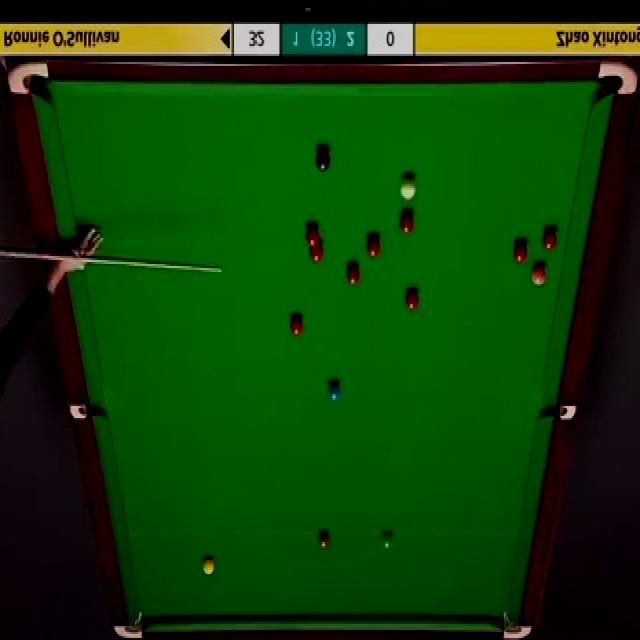black-ball: (314, 146, 330, 175)
blue-ball: (328, 378, 341, 404)
brown-ball: (317, 531, 331, 549)
green-ball: (380, 530, 395, 552)
pink-ball: (530, 266, 548, 286)
red-ball: (304, 223, 320, 248), (399, 212, 416, 234), (365, 234, 380, 258), (542, 230, 558, 252), (308, 242, 324, 264), (406, 288, 420, 312), (512, 243, 528, 264), (347, 262, 360, 286), (289, 315, 302, 338)
white-ball: (400, 176, 416, 202)
yellow-ball: (203, 555, 215, 574)
